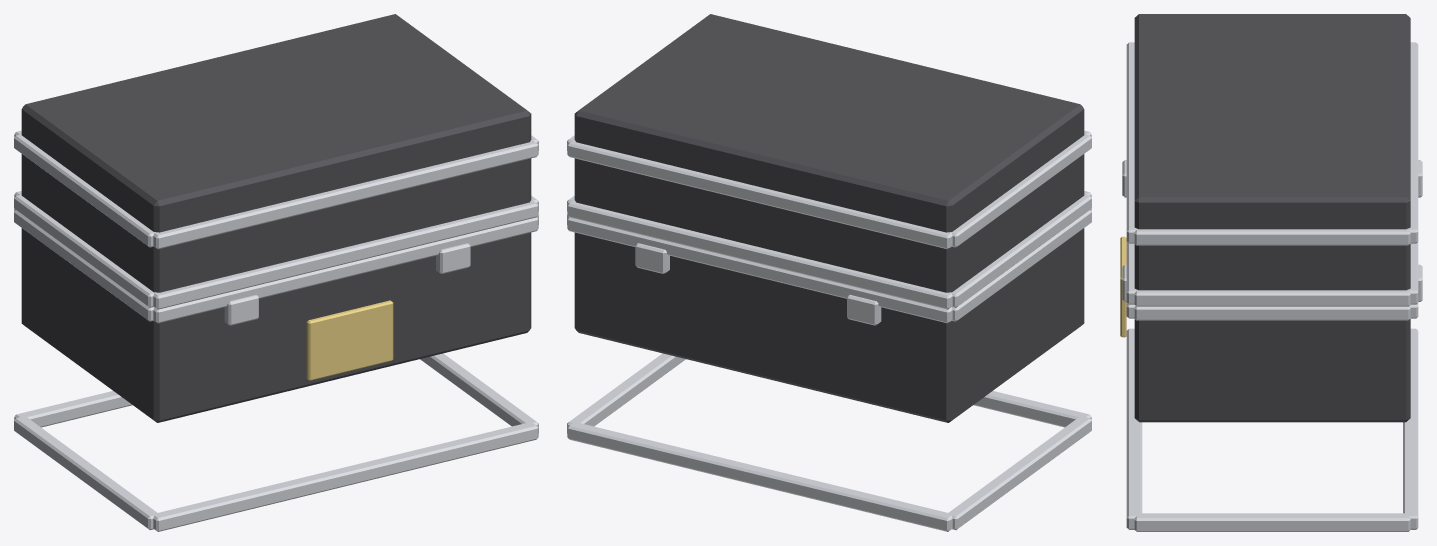
File: theatre-stage-and-backstage-flight-case-c898f4a9__35918.glb
3 renders of one model, left to right at view 1: azimuth 30°, elevation 25°; view 2: azimuth 150°, elevation 25°; view 3: azimuth 270°, elevation 25°, orthographic.
Visible parts, largest first — view 1: flight-case, lid, lid/metal; view 2: flight-case, lid, lid/metal; view 3: flight-case, lid, lid/metal.
Part boxes in pixels (x1,y1,x2,y2): flight-case: (14,105,538,531); lid: (22,14,531,272); lid/metal: (14,130,538,309); flight-case: (567,105,1091,531); lid: (574,14,1083,272); lid/metal: (567,130,1091,309); flight-case: (1120,16,1422,531); lid: (1134,14,1410,269); lid/metal: (1126,42,1418,306).
Size of the model in its own units: 0.828 by 0.661 by 0.548.
